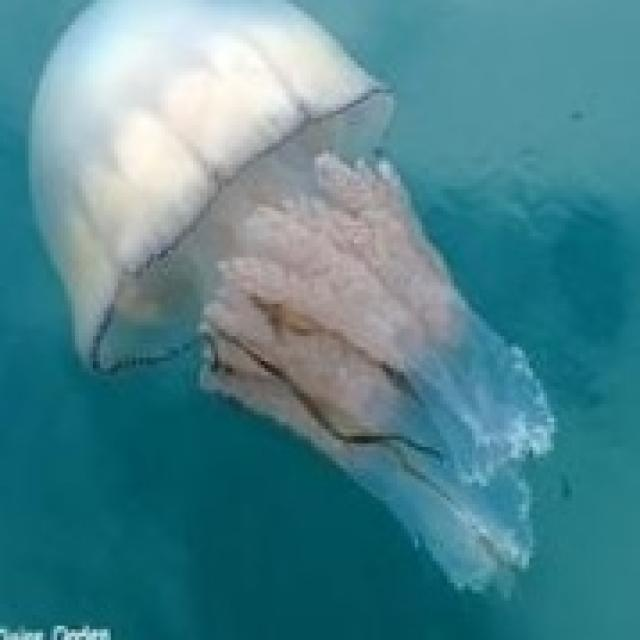Jellyfish: (25, 0, 561, 601)
